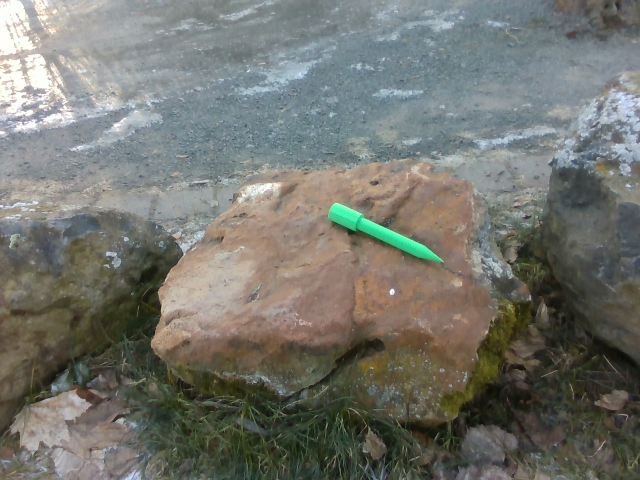Probe: (327, 201, 447, 265)
